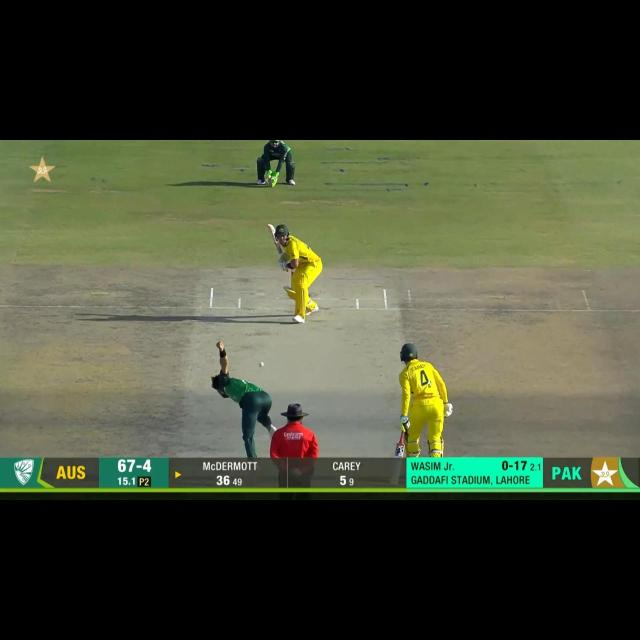bat: (266, 222, 284, 255), (393, 446, 406, 457)
toe: (267, 223, 274, 231)
